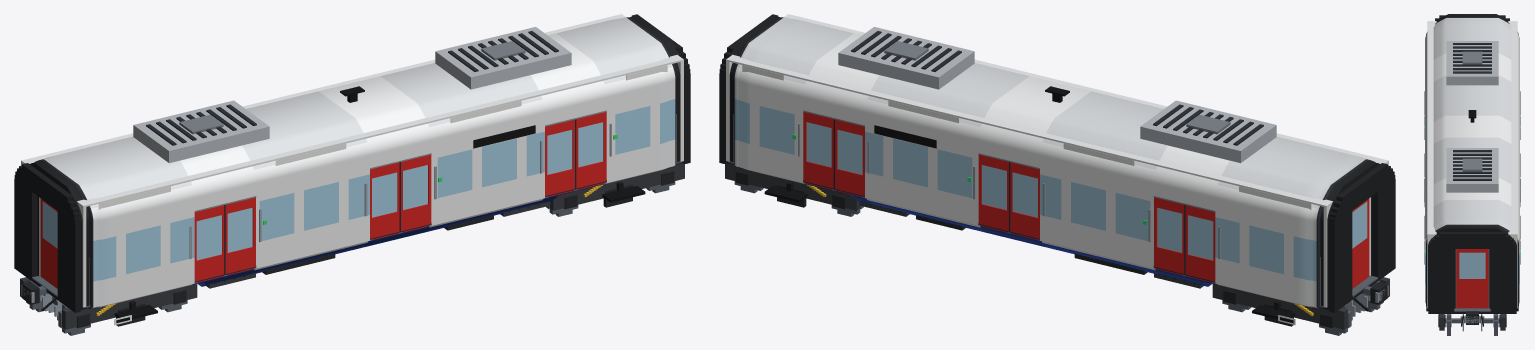
The model's file is sstock_car.obj.
3 renders of one model, left to right at view 1: azimuth 30°, elevation 25°; view 2: azimuth 150°, elevation 25°; view 3: azimuth 270°, elevation 25°, orthographic. The views are drawn at different scales.
Visible parts, largest first — view 1: SHELL, SHELL_roof, SHELL_diaphragm, SHELL_ceiling, BOGEY_REAR, BOGEY_FRONT, EXTERNAL_DOOR_4_CG_DR1_TOGGLE_TL_-0.74_X, EXTERNAL_DOOR_16_CG_DR3_TOGGLE_TL_-0.74_X, EXTERNAL_DOOR_10_CG_DR2_TOGGLE_TL_-0.74_X, EXTERNAL_DOOR_17_CG_DR3_TOGGLE_TL_0.74_X, EXTERNAL_DOOR_11_CG_DR2_TOGGLE_TL_0.74_X, EXTERNAL_DOOR_5_CG_DR1_TOGGLE_TL_0.74_X (+7 smaller); view 2: SHELL, SHELL_roof, SHELL_diaphragm, SHELL_ceiling, BOGEY_REAR, BOGEY_FRONT, EXTERNAL_DOOR_7_CG_DL1_TOGGLE_TL_-0.74_X, EXTERNAL_DOOR_19_CG_DL3_TOGGLE_TL_-0.74_X, EXTERNAL_DOOR_13_CG_DL2_TOGGLE_TL_-0.74_X, EXTERNAL_DOOR_20_CG_DL3_TOGGLE_TL_0.74_X, EXTERNAL_DOOR_14_CG_DL2_TOGGLE_TL_0.74_X, EXTERNAL_DOOR_8_CG_DL1_TOGGLE_TL_0.74_X (+7 smaller); view 3: SHELL, SHELL_roof, SHELL_diaphragm, SHELL_ceiling, CONNECTING_DOOR_2_CG_CF_TOGGLE_TL_0.98_Z, BOGEY_FRONT_WHEEL_2, BOGEY_FRONT, SHELL_handle, SHELL_end, FRAME, SHELL_floor, SHELL_gangway.
Boxes of the visible parts, x1,y1,x2,y2 form: SHELL: (30, 15, 684, 309); SHELL_roof: (133, 27, 571, 163); SHELL_diaphragm: (14, 14, 690, 312); SHELL_ceiling: (24, 14, 681, 206); BOGEY_REAR: (20, 277, 197, 329); BOGEY_FRONT: (549, 163, 684, 210); EXTERNAL_DOOR_4_CG_DR1_TOGGLE_TL_-0.74_X: (194, 205, 225, 281); EXTERNAL_DOOR_16_CG_DR3_TOGGLE_TL_-0.74_X: (545, 119, 576, 195); EXTERNAL_DOOR_10_CG_DR2_TOGGLE_TL_-0.74_X: (370, 162, 400, 238); EXTERNAL_DOOR_17_CG_DR3_TOGGLE_TL_0.74_X: (576, 112, 606, 188); EXTERNAL_DOOR_11_CG_DR2_TOGGLE_TL_0.74_X: (401, 154, 431, 231); EXTERNAL_DOOR_5_CG_DR1_TOGGLE_TL_0.74_X: (225, 197, 255, 273); SHELL: (725, 15, 1379, 309); SHELL_roof: (838, 27, 1276, 163); SHELL_diaphragm: (719, 14, 1395, 312); SHELL_ceiling: (728, 14, 1385, 206); BOGEY_REAR: (1212, 277, 1389, 329); BOGEY_FRONT: (725, 163, 860, 210); EXTERNAL_DOOR_7_CG_DL1_TOGGLE_TL_-0.74_X: (1184, 205, 1215, 281); EXTERNAL_DOOR_19_CG_DL3_TOGGLE_TL_-0.74_X: (833, 119, 864, 195); EXTERNAL_DOOR_13_CG_DL2_TOGGLE_TL_-0.74_X: (1009, 162, 1039, 238); EXTERNAL_DOOR_20_CG_DL3_TOGGLE_TL_0.74_X: (803, 112, 833, 188); EXTERNAL_DOOR_14_CG_DL2_TOGGLE_TL_0.74_X: (978, 154, 1008, 231); EXTERNAL_DOOR_8_CG_DL1_TOGGLE_TL_0.74_X: (1154, 197, 1184, 273); SHELL: (1425, 14, 1519, 309); SHELL_roof: (1446, 41, 1498, 192); SHELL_diaphragm: (1428, 15, 1516, 313); SHELL_ceiling: (1427, 22, 1517, 233); CONNECTING_DOOR_2_CG_CF_TOGGLE_TL_0.98_Z: (1456, 249, 1488, 308); BOGEY_FRONT_WHEEL_2: (1445, 314, 1499, 335); BOGEY_FRONT: (1426, 306, 1518, 330); SHELL_handle: (1424, 91, 1520, 264); SHELL_end: (1427, 21, 1517, 308); FRAME: (1461, 311, 1483, 326); SHELL_floor: (1455, 249, 1489, 306); SHELL_gangway: (1454, 307, 1490, 311).
Bounding box in the file's own units: 16.84 × 4.04 × 2.96.
1 material, 1 textured.
